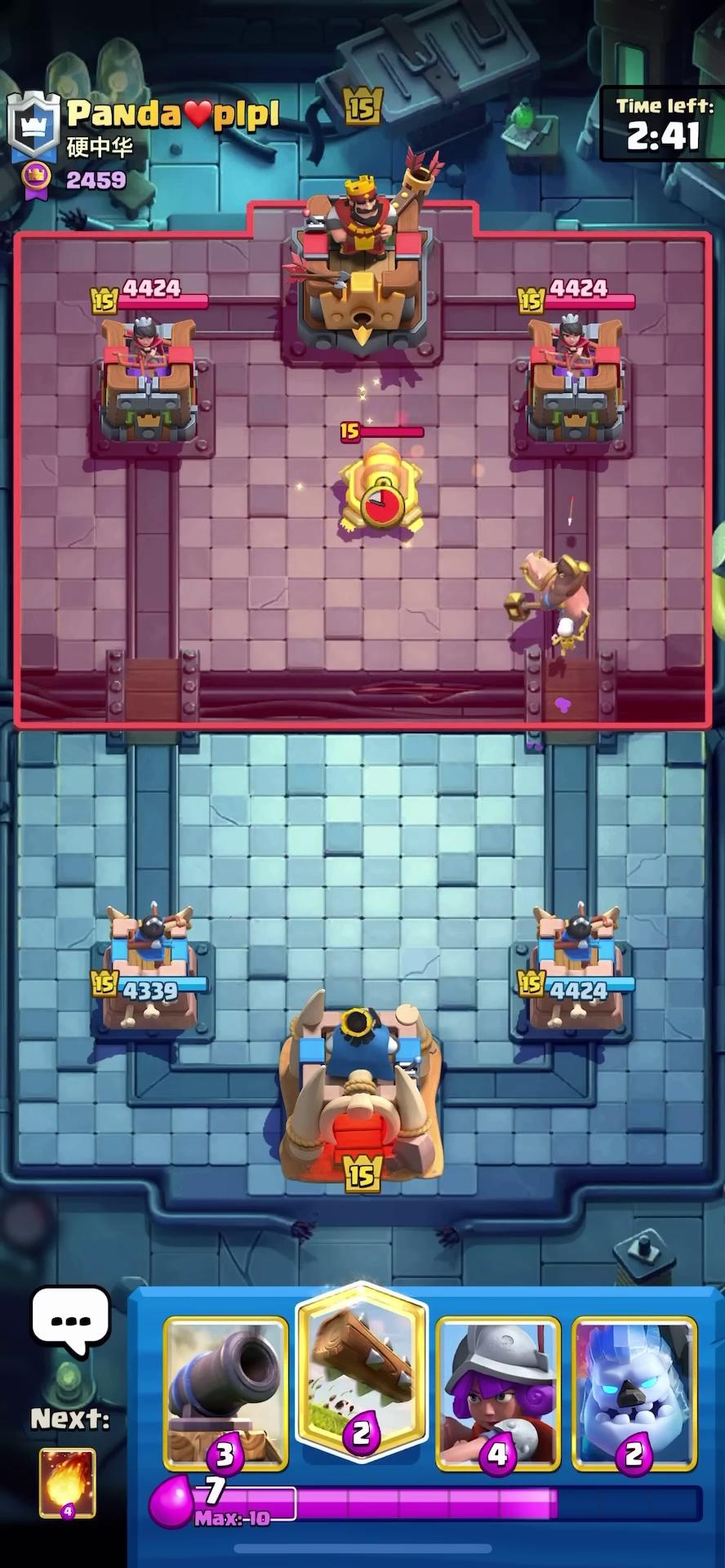hog_rider: (506, 541, 600, 635)
skeletons: (541, 612, 598, 649)
